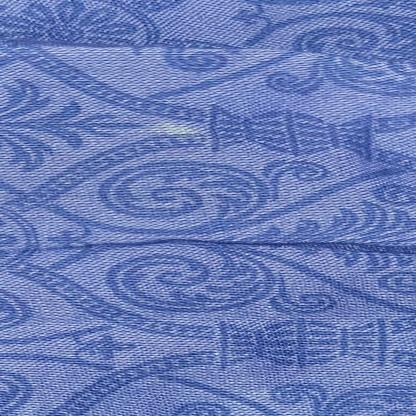spot: (149, 116, 218, 144)
